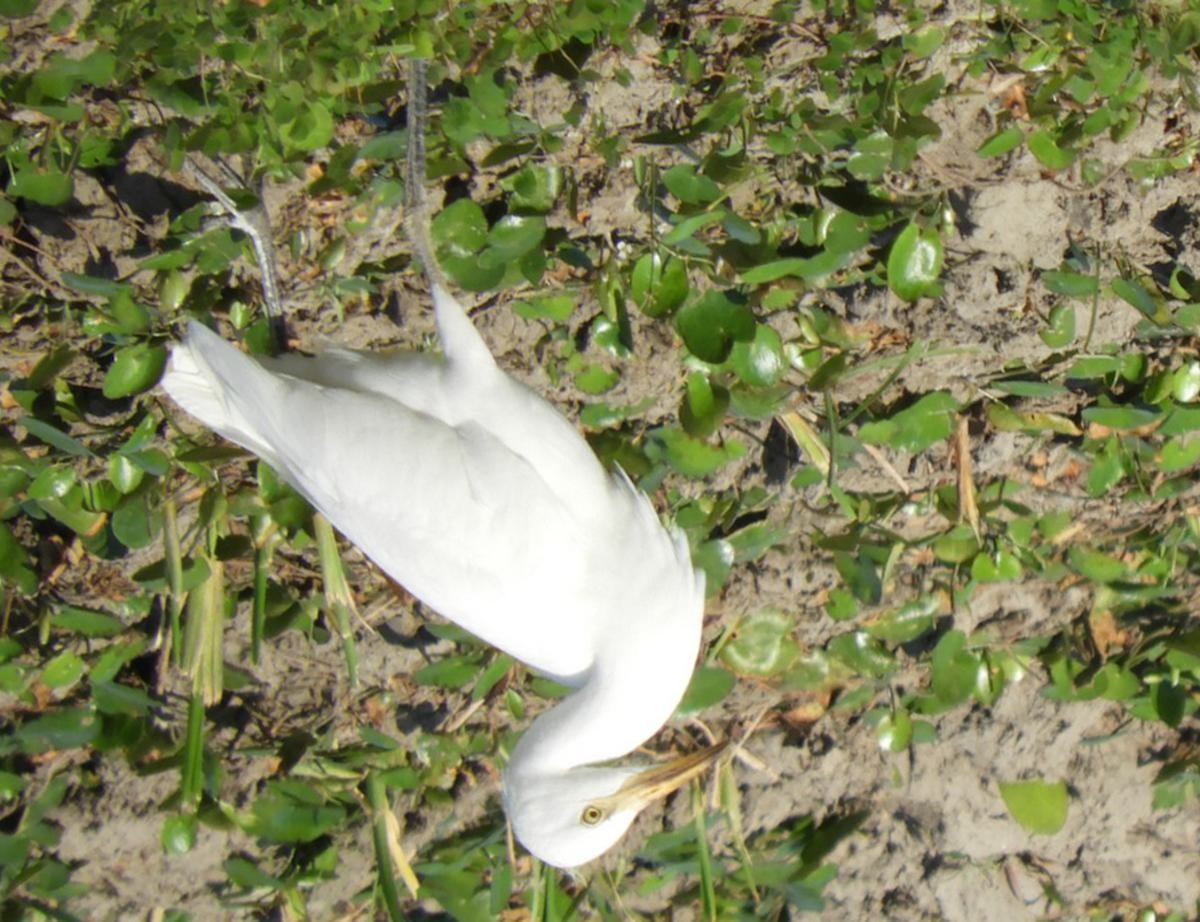egret: (107, 52, 759, 874)
